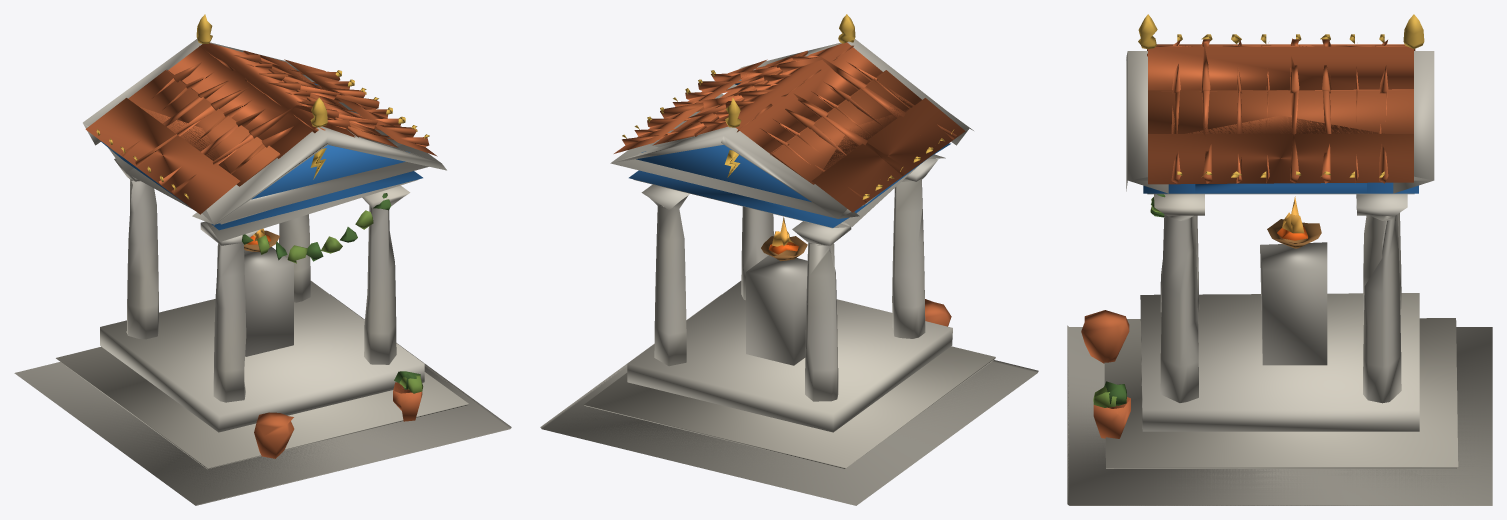
File: country_shrine_roadside.glb
3 views of the same model, side by side, from view 1: azimuth 30°, elevation 25°; view 2: azimuth 150°, elevation 25°; view 3: azimuth 270°, elevation 25° (orthographic). The views are drawn at different scales.
Visible parts, largest first — view 1: step, marble, terracotta0, terracotta2, terracotta1, paint_azure, terracotta, gold, leaf, leaf_dark; view 2: step, marble, terracotta0, terracotta2, terracotta1, paint_azure, gold; view 3: step, marble, terracotta0, terracotta1, terracotta2, terracotta, paint_azure, gold, bronze, leaf_dark.
Boxes of the visible parts, x1,y1,x2,y2 form: step: [14, 281, 511, 505]; marble: [83, 39, 446, 402]; terracotta0: [85, 50, 437, 214]; terracotta2: [120, 43, 400, 185]; terracotta1: [128, 46, 417, 195]; paint_azure: [101, 83, 422, 230]; terracotta: [254, 382, 422, 458]; gold: [96, 14, 429, 199]; leaf: [257, 210, 423, 393]; leaf_dark: [242, 193, 420, 389]; step: [540, 281, 1038, 505]; marble: [610, 39, 973, 401]; terracotta0: [614, 51, 965, 212]; terracotta2: [647, 42, 905, 171]; terracotta1: [622, 45, 921, 204]; paint_azure: [629, 83, 950, 227]; gold: [622, 14, 953, 199]; step: [1067, 293, 1492, 505]; marble: [1126, 51, 1434, 403]; terracotta0: [1148, 39, 1413, 184]; terracotta1: [1147, 39, 1415, 183]; terracotta2: [1148, 38, 1413, 183]; terracotta: [1081, 310, 1130, 438]; paint_azure: [1143, 182, 1418, 193]; gold: [1138, 14, 1424, 177]; bronze: [1267, 219, 1321, 248]; leaf_dark: [1104, 194, 1165, 405].
Size of the model in its own units: 3.02 by 3.16 by 3.02.
